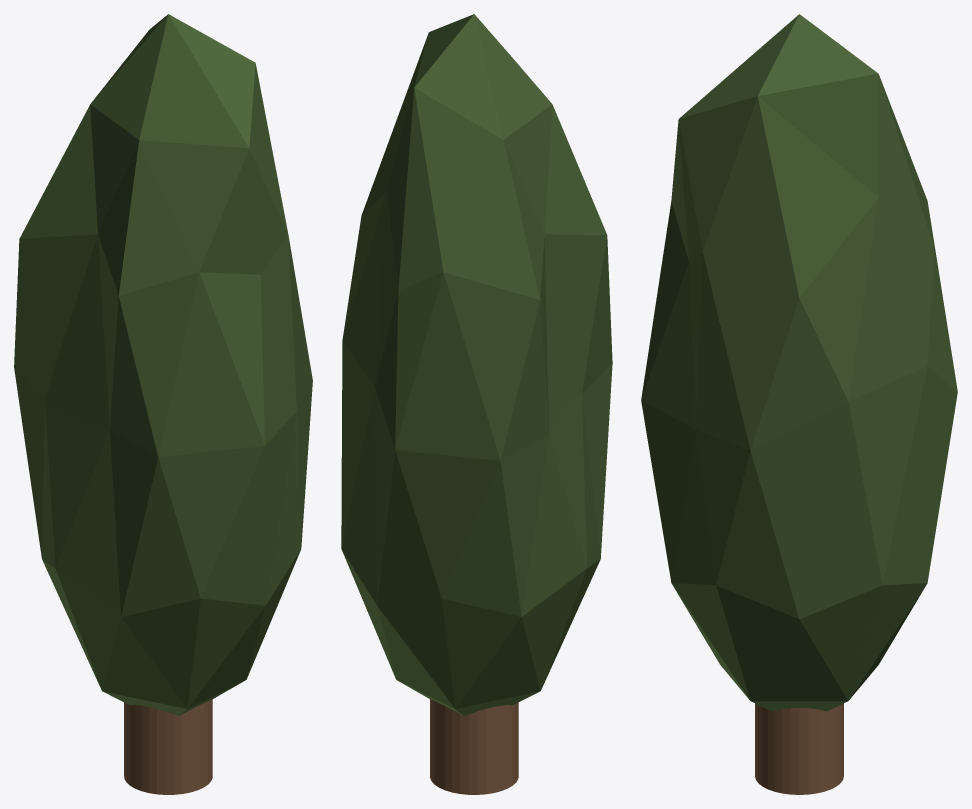
File: tree2.obj
3 views of the same model, side by side, from view 1: azimuth 30°, elevation 25°; view 2: azimuth 150°, elevation 25°; view 3: azimuth 270°, elevation 25° (orthographic).
Visible parts, largest first — view 1: Icosphere, Cylinder; view 2: Icosphere, Cylinder; view 3: Icosphere, Cylinder.
Boxes of the visible parts, x1=… form: Icosphere: x1=14, y1=14, x2=312, y2=716; Cylinder: x1=124, y1=699, x2=212, y2=794; Icosphere: x1=341, y1=14, x2=612, y2=716; Cylinder: x1=430, y1=699, x2=518, y2=794; Icosphere: x1=641, y1=14, x2=957, y2=711; Cylinder: x1=755, y1=703, x2=843, y2=794.
Bounding box in the file's own units: 6.05 × 18.92 × 7.12.
